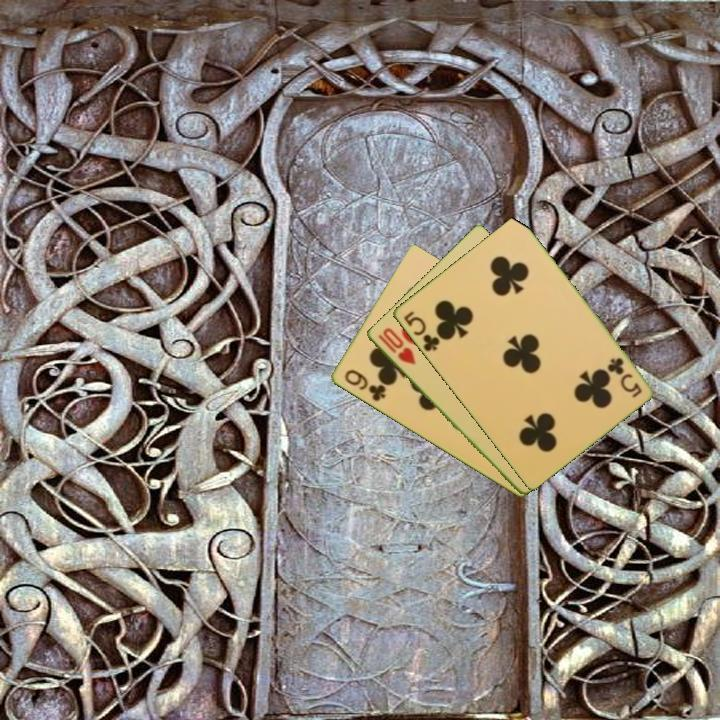10h: (374, 324, 418, 368)
5c: (400, 307, 442, 355), (604, 354, 645, 401)
9c: (340, 366, 388, 404)
